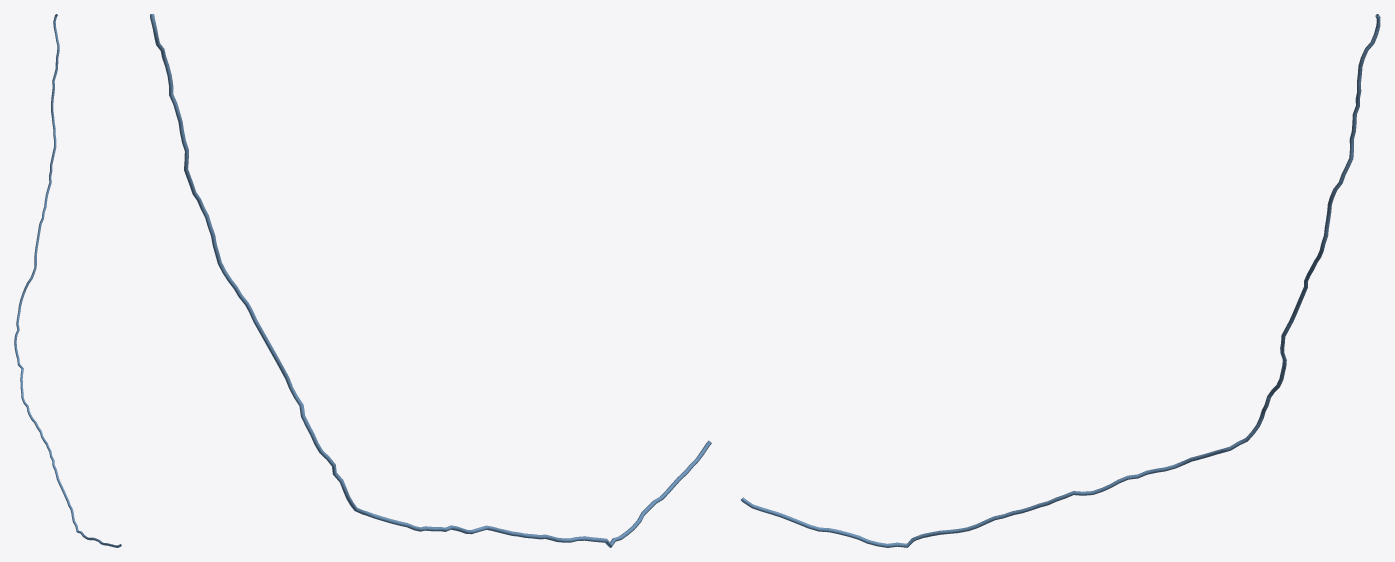
The model's file is sweep193.fbx.
3 renders of one model, left to right at view 1: azimuth 30°, elevation 25°; view 2: azimuth 150°, elevation 25°; view 3: azimuth 270°, elevation 25°, orthographic. The views are drawn at different scales.
Visible parts, largest first — view 1: sweep193; view 2: sweep193; view 3: sweep193.
Boxes of the visible parts, box(x1,y1,x2,y2) form: sweep193: box(14, 14, 121, 547); sweep193: box(150, 14, 711, 547); sweep193: box(741, 14, 1380, 547).
Bounding box in the file's own units: 1.19 × 3.32 × 3.05.
